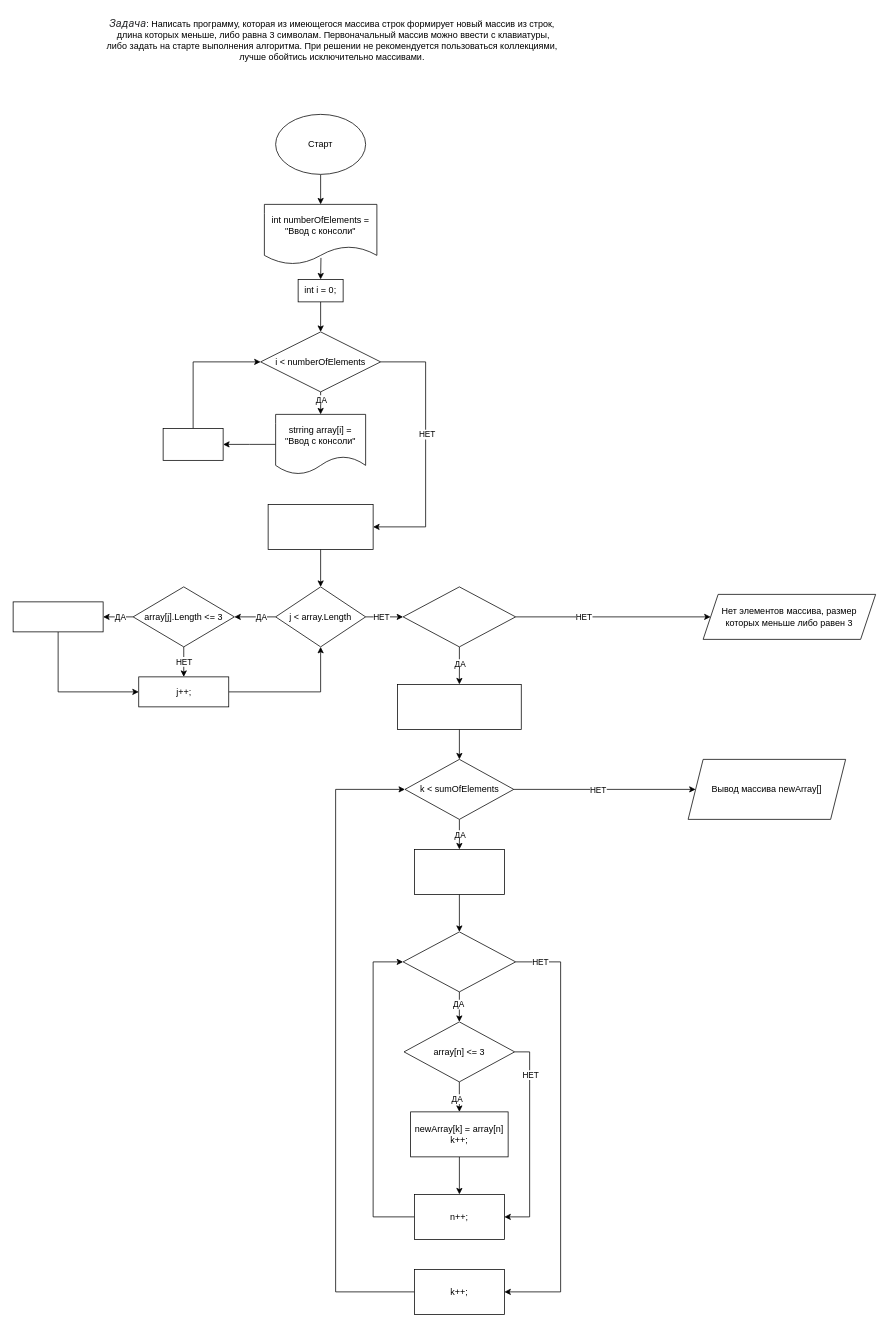
Image size: 889x1328. Some labels were removed from this diagram. The centre of each missing label's shape, as x and y in pixels:
i++: point 192,444
int n = 0;: point 459,871
int sumOfElements = 0; int j = 0;: point 320,526
n < array.Length: point 459,961
string[] newArray = new string[sumOfElements]; int k = 0;: point 459,706
sumOfElements != 0;: point 459,616
sumOfElements++;: point 57,616
